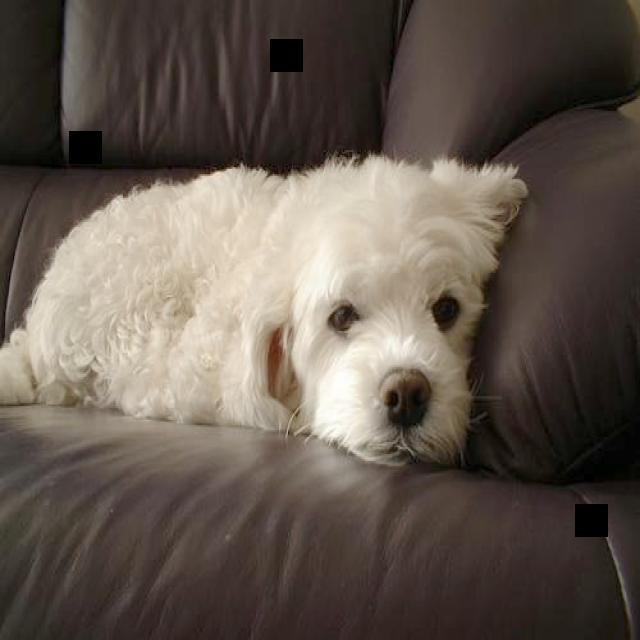adult_dog: (1, 151, 537, 476)
